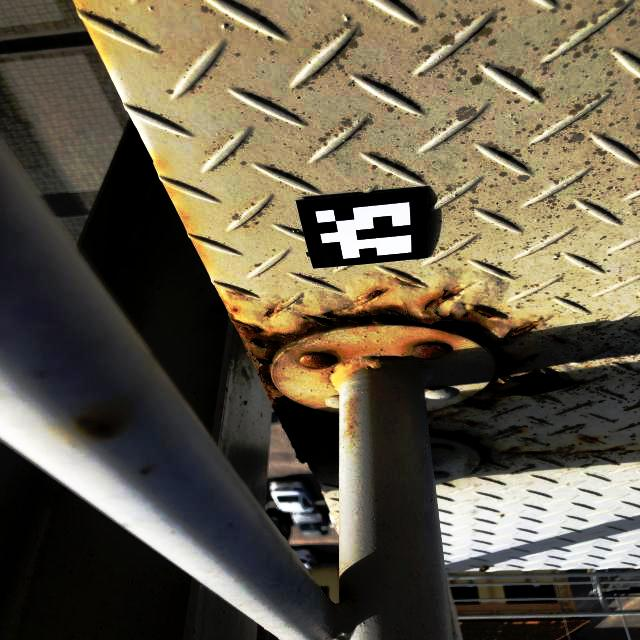Corrosion: (230, 289, 582, 461), (433, 431, 493, 462), (411, 339, 451, 360), (299, 349, 338, 370), (79, 417, 118, 438), (510, 450, 552, 458), (580, 435, 599, 446), (262, 305, 276, 318)
